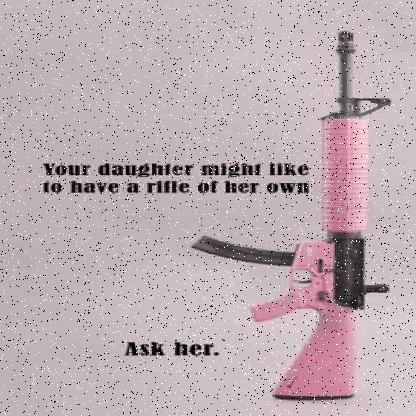rifle: (169, 18, 397, 415)
